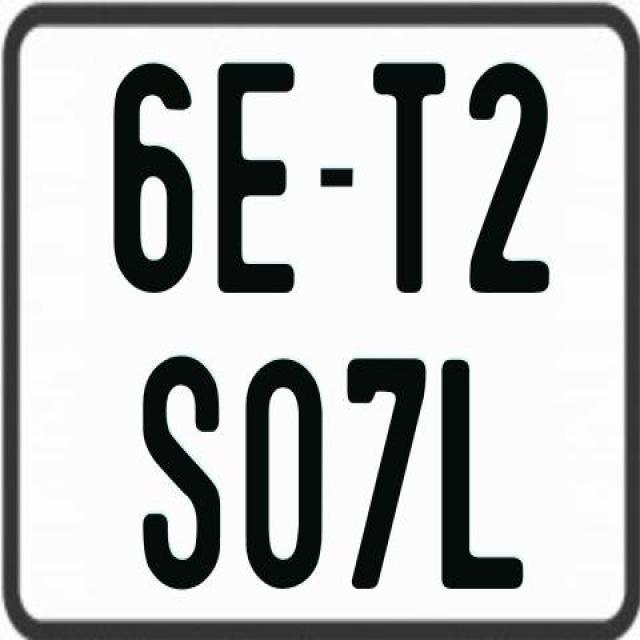0: (244, 357, 323, 589)
2: (465, 59, 547, 294)
6: (114, 59, 198, 290)
7: (346, 353, 426, 588)
E: (217, 59, 303, 290)
L: (440, 355, 526, 584)
S: (140, 352, 224, 587)
T: (374, 61, 454, 292)
